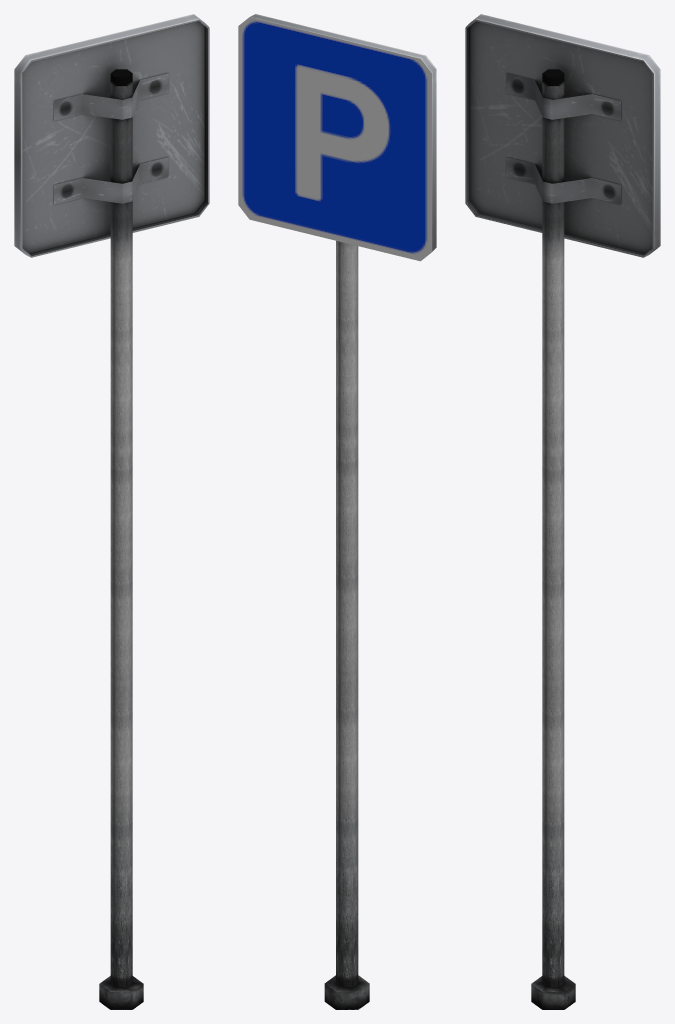
The model's file is TRF0310019.fbx.
3 renders of one model, left to right at view 1: azimuth 30°, elevation 25°; view 2: azimuth 150°, elevation 25°; view 3: azimuth 330°, elevation 25°, orthographic.
Visible parts, largest first — view 1: smTRF0310019; view 2: smTRF0310019; view 3: smTRF0310019.
Boxes of the visible parts, <box> form: smTRF0310019: <box>14,14,209,1009</box>; smTRF0310019: <box>238,14,436,1009</box>; smTRF0310019: <box>465,14,660,1009</box>.
Bounding box in the file's own units: 50.79 × 244 × 10.57.
Materials: 1 (1 with a texture image).
